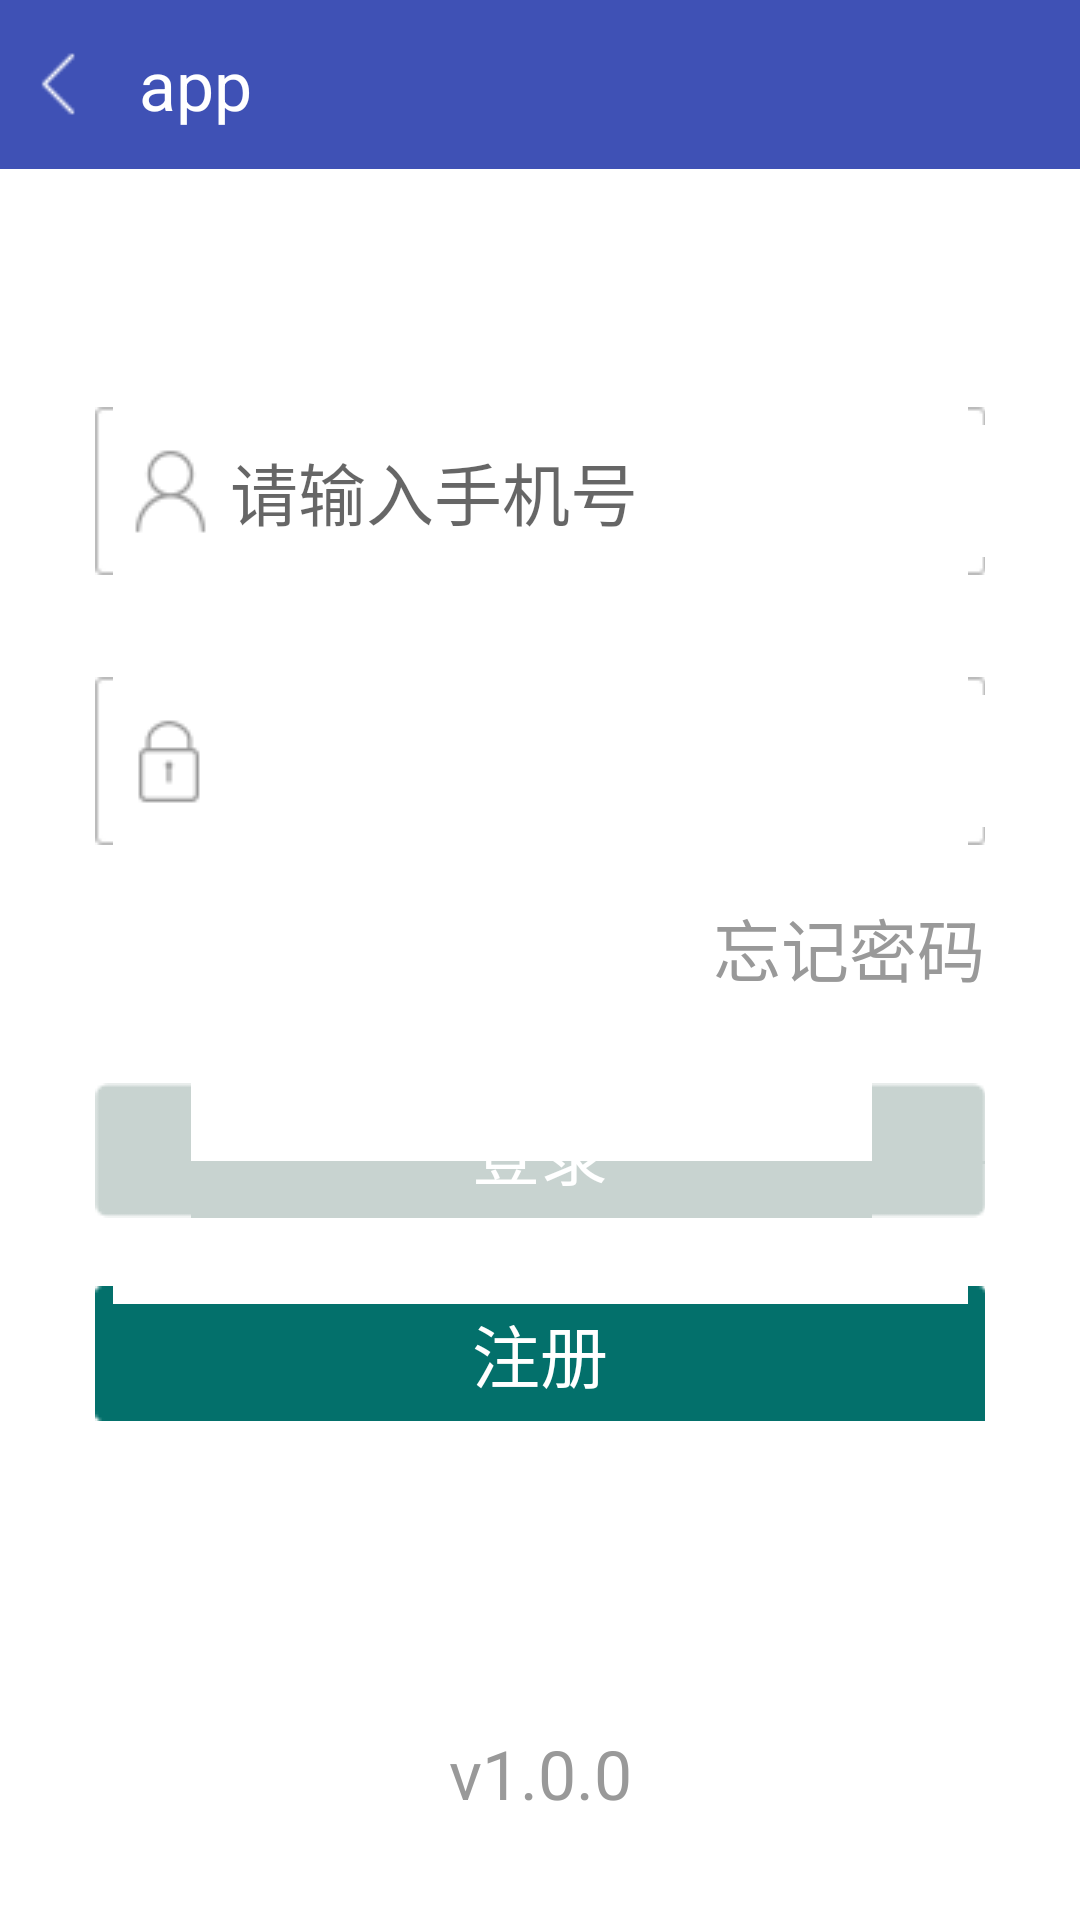

Icon click points for this 1080w x 1920h phone screenshot, format (x,y):
account: (170,491)
back: (58,84)
password: (169,761)
